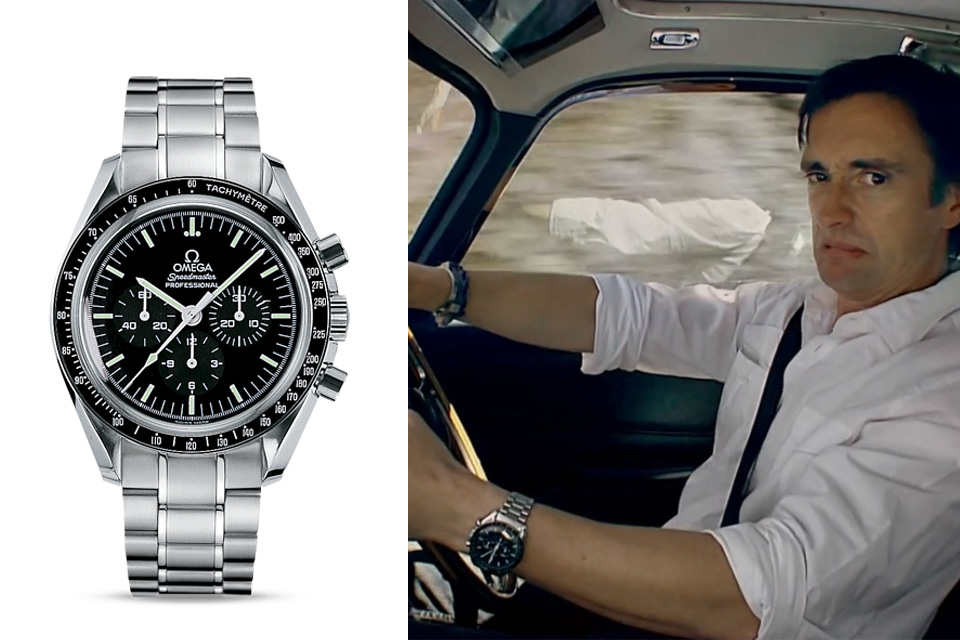clock: (79, 200, 307, 434), (473, 521, 521, 575)
